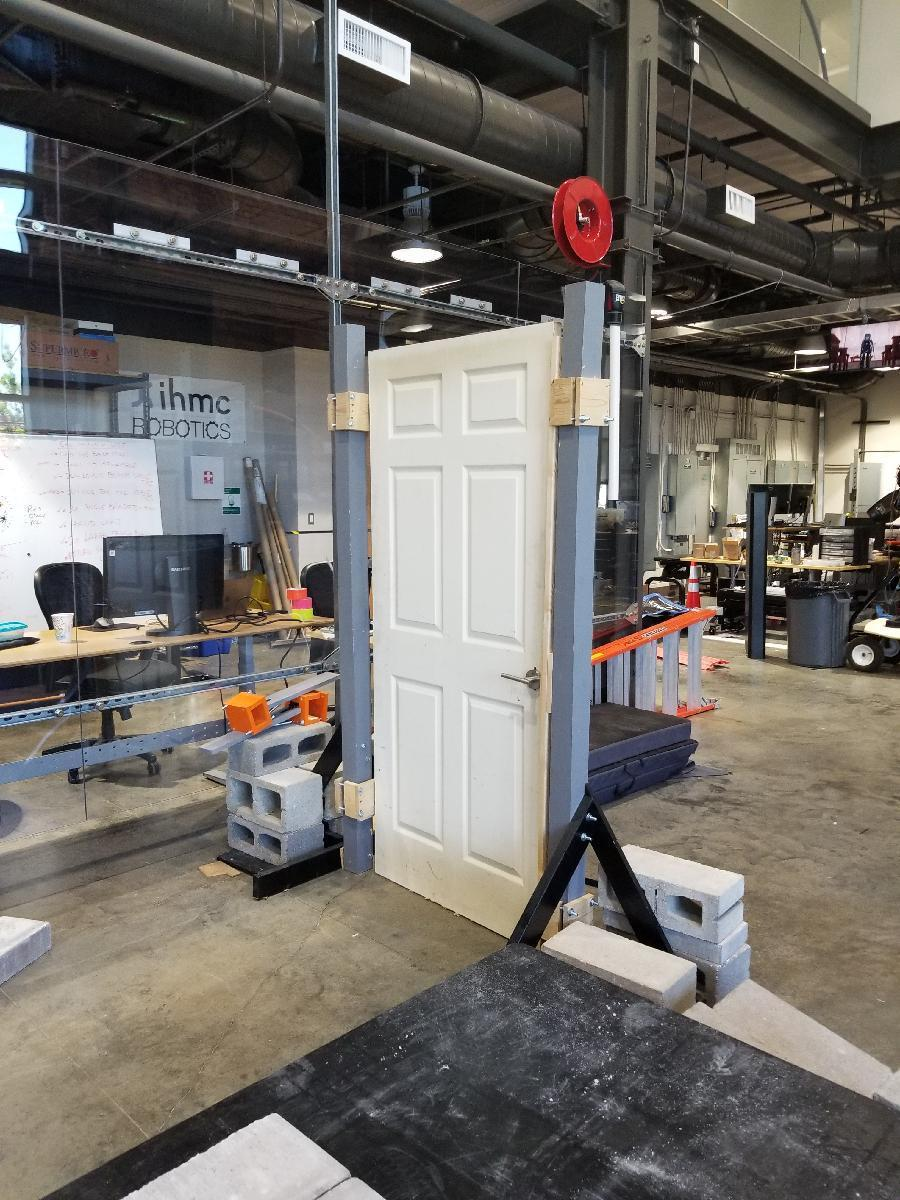door: (366, 328, 562, 929)
handle: (499, 665, 544, 695)
